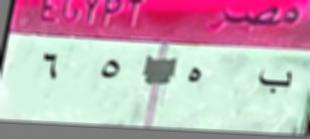5: (98, 55, 122, 84)
6: (36, 49, 63, 84)
baa: (253, 67, 294, 98)
haa: (183, 63, 203, 88)
